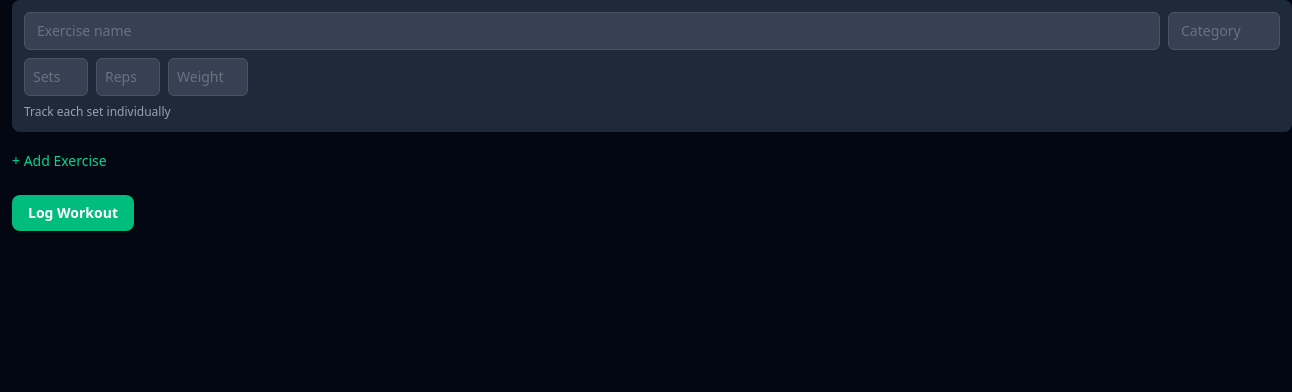
Test: WorkoutForm › adds a new exercise row when Add Exercise is clicked
This screenshot has width=1292, height=392.
Click the button "+ Add Exercise". click: (59, 161)
box: [12,151,107,171]
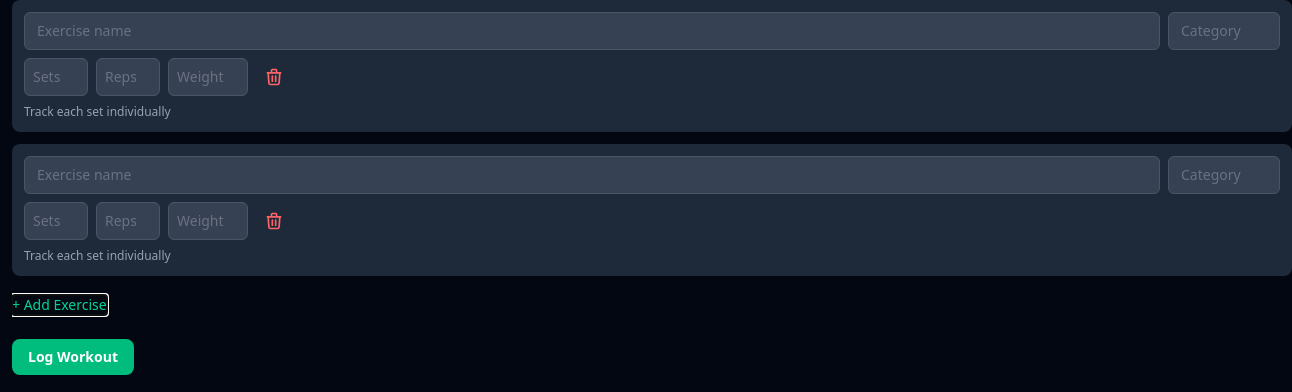
Now the number of fields with placeholder "Exercise name" is 2, box [24,12,1160,50]; [24,156,1160,194]
